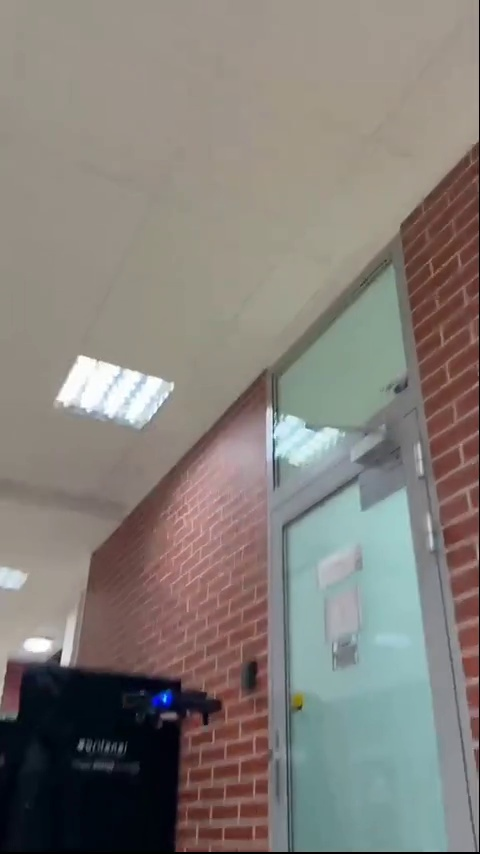drone: (128, 686, 221, 728)
